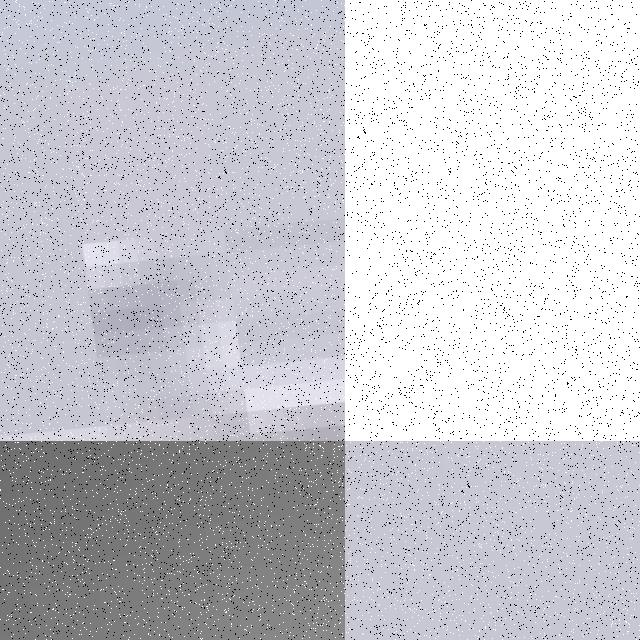drone: (0, 0, 345, 441), (0, 441, 345, 640)
